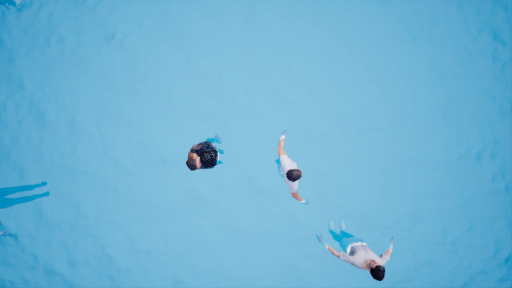person: (314, 218, 402, 282), (275, 132, 309, 205), (179, 134, 225, 173)
